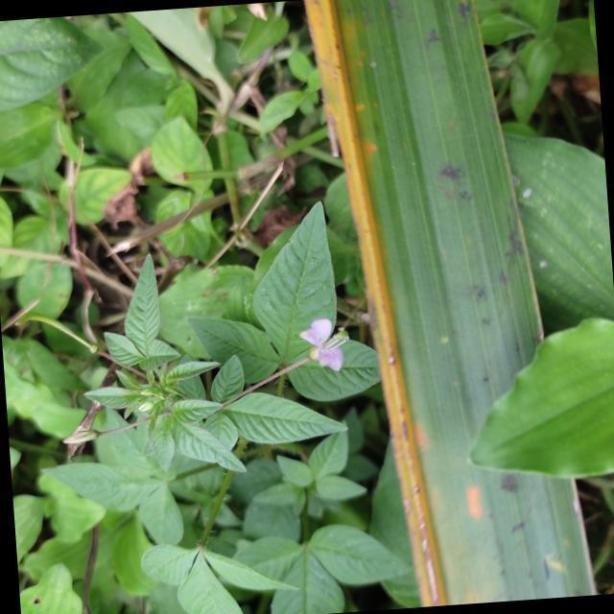Megnesium: (304, 0, 600, 608)
